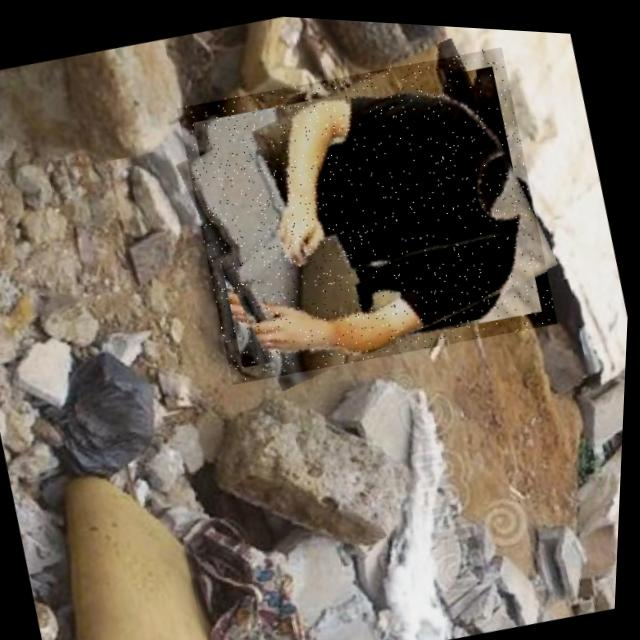Person in Rubble: (167, 24, 568, 396)
